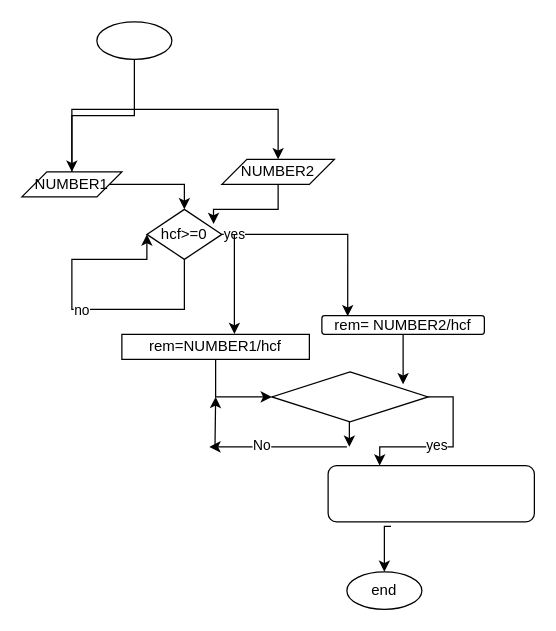
This 556x631 diagram has some shape labels left out. The shapes that lost their labels are listed below. From the top down, each one's box as (x1, y1, x2, y2) in pixels, then its label:
(96, 21, 172, 59): START
(271, 371, 428, 422): rem!=hcf
(327, 464, 534, 522): display "highest common factor" hcf
